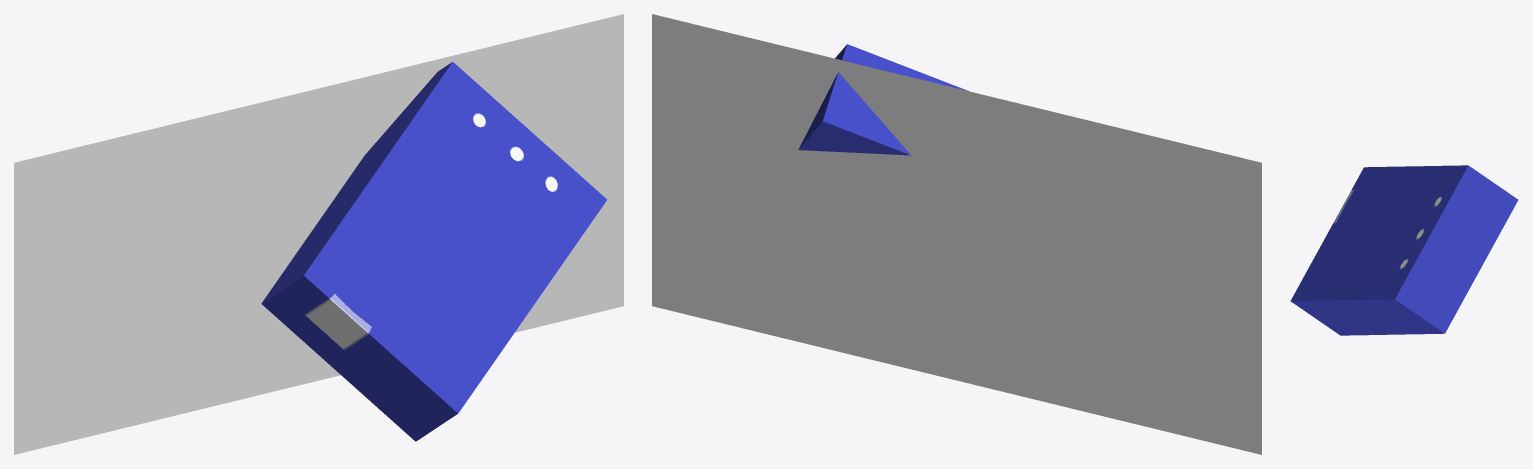
File: korpus.glb
The picture shows the model from 3 angles, left to right: view 1: azimuth 30°, elevation 25°; view 2: azimuth 150°, elevation 25°; view 3: azimuth 270°, elevation 25°; orthographic projection. The views are drawn at different scales.
Visible parts, largest first — view 1: mesh_id1, mesh_id27; view 2: mesh_id1, mesh_id27; view 3: mesh_id27.
Part boxes in pixels (x1,y1,x2,y2): mesh_id1: (14, 14, 623, 454); mesh_id27: (261, 62, 607, 441); mesh_id1: (652, 14, 1261, 454); mesh_id27: (798, 44, 968, 155); mesh_id27: (1290, 165, 1518, 335).
Size of the model in its own units: 1.28 by 0.5997 by 0.5564.
2 materials, 2 textured.
